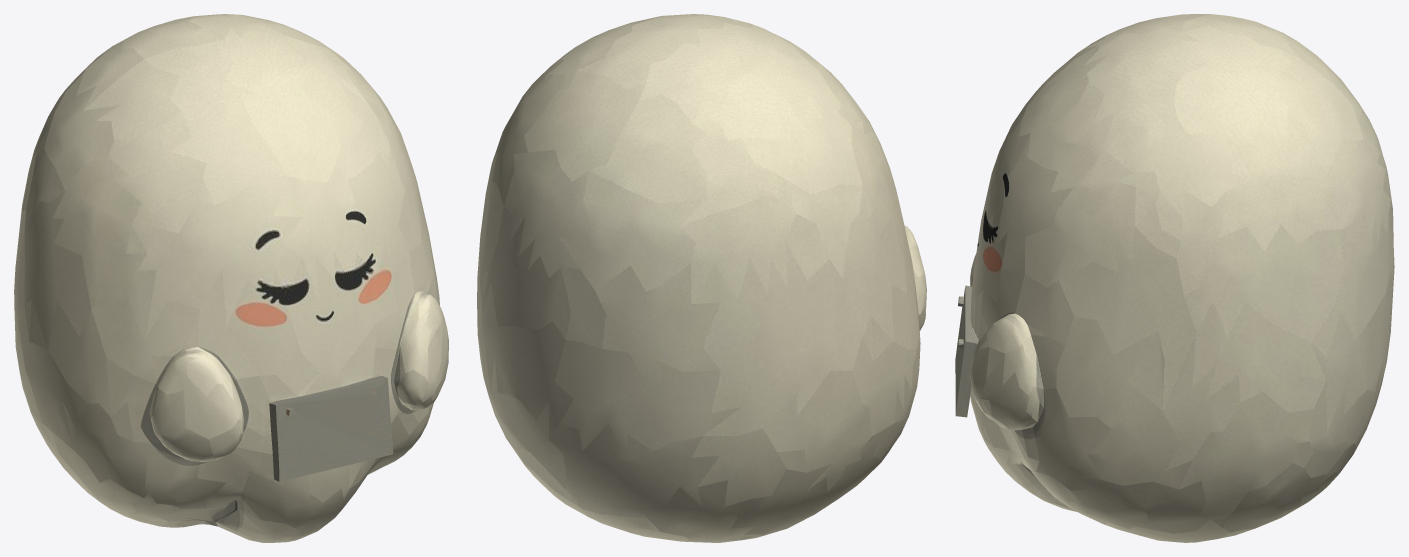
The model's file is papel-fantasma.glb.
3 renders of one model, left to right at view 1: azimuth 30°, elevation 25°; view 2: azimuth 150°, elevation 25°; view 3: azimuth 270°, elevation 25°, orthographic. The views are drawn at different scales.
Size of the model in its own units: 1.56 by 1.9 by 1.58.
1 material, 1 textured.
